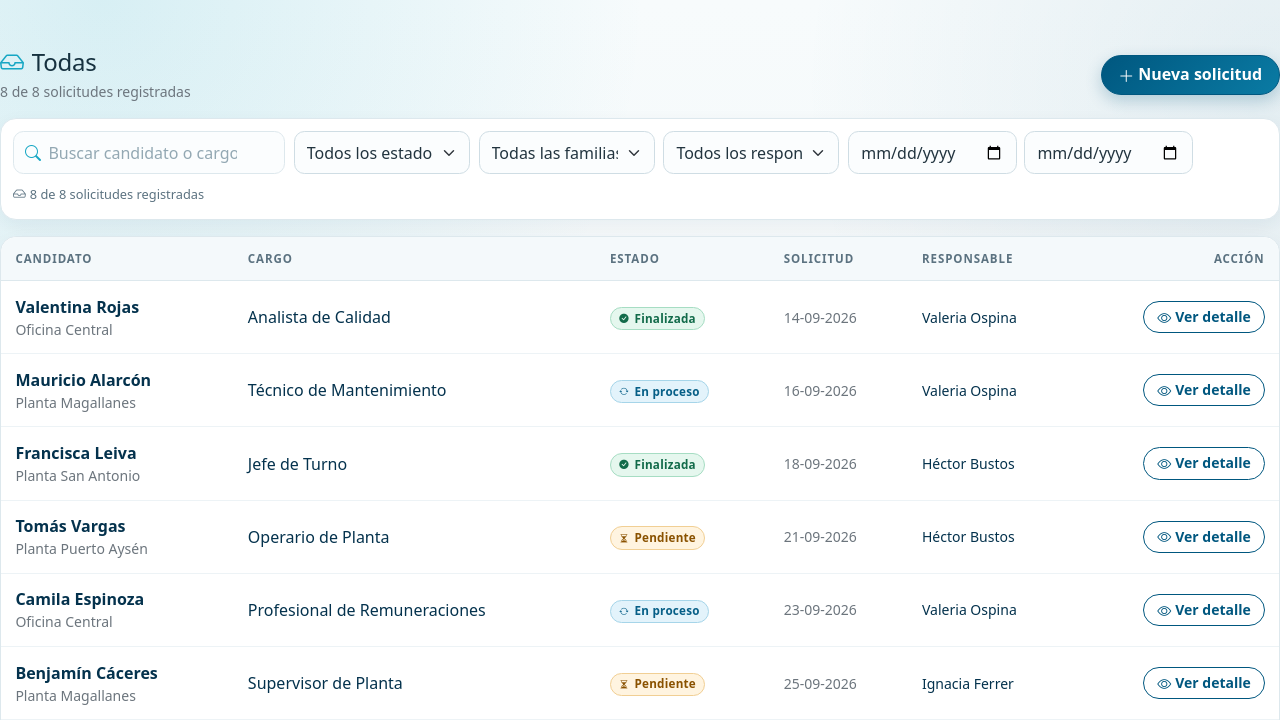
Test: BandejaSolicitudes — columna de responsable › muestra el responsable y el mensaje vacío personalizado
Expected: the heading "Todas" is shown, [0,45,96,78]
Type "no-existe" into the search field labelled "Buscar candidato o cargo…" at (149, 153), box [13,131,285,174]
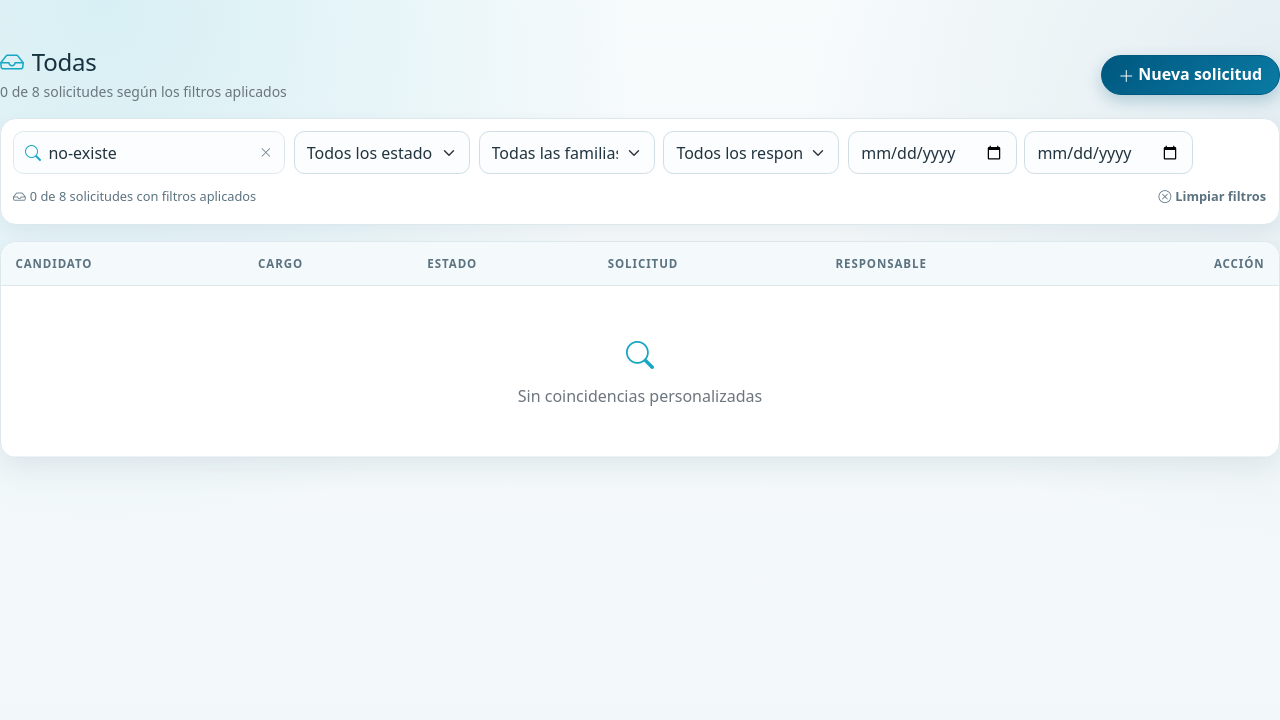
Expected: the text "Sin coincidencias personalizadas" is shown, [1,285,1279,456]
